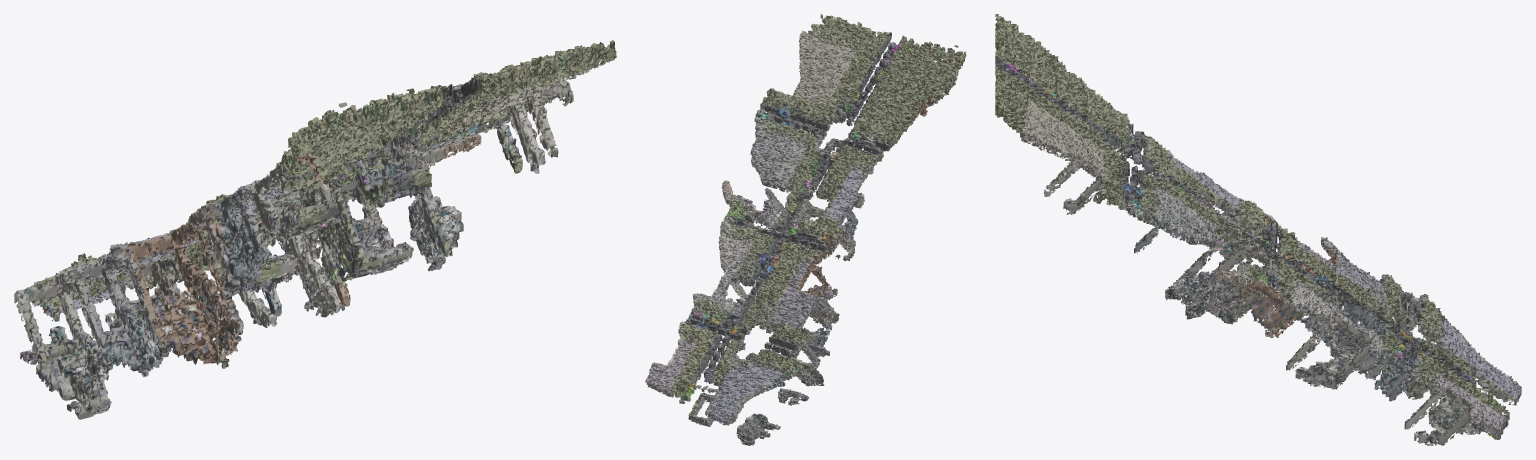
Rendered from mesh_filled.glb.
3 views of the same model, side by side, from view 1: azimuth 30°, elevation 25°; view 2: azimuth 150°, elevation 25°; view 3: azimuth 270°, elevation 25° (orthographic). The views are drawn at different scales.
Visible parts, largest first — view 1: city_decimated; view 2: city_decimated; view 3: city_decimated.
Boxes of the visible parts, x1,y1,x2,y2 form: city_decimated: (14, 40, 616, 419); city_decimated: (645, 14, 966, 445); city_decimated: (995, 14, 1521, 445).
Bounding box in the file's own units: 5.63 × 9.47 × 11.55.
